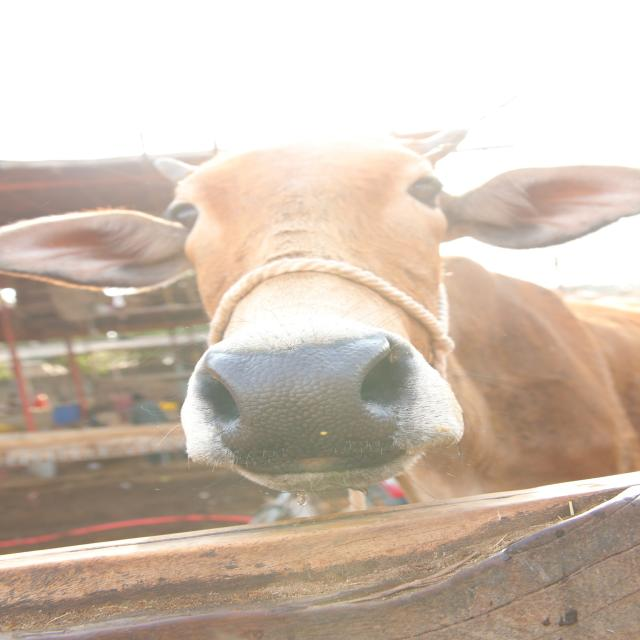muzzles: (185, 330, 415, 468)
